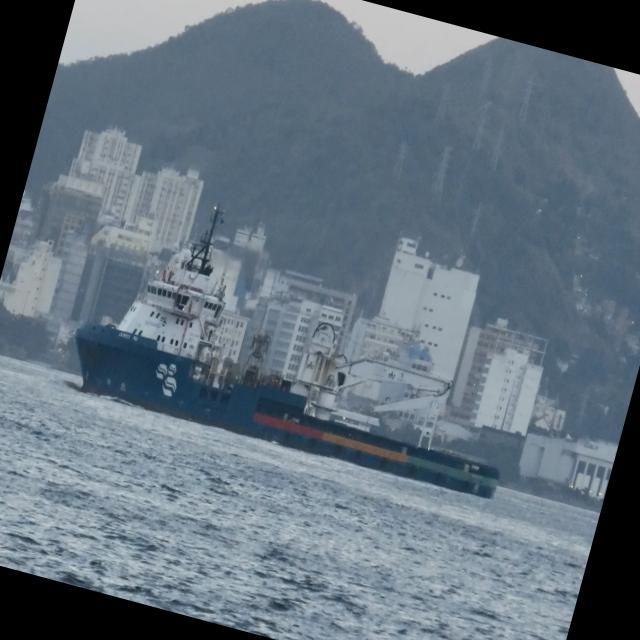Offshore: (75, 209, 498, 497)
